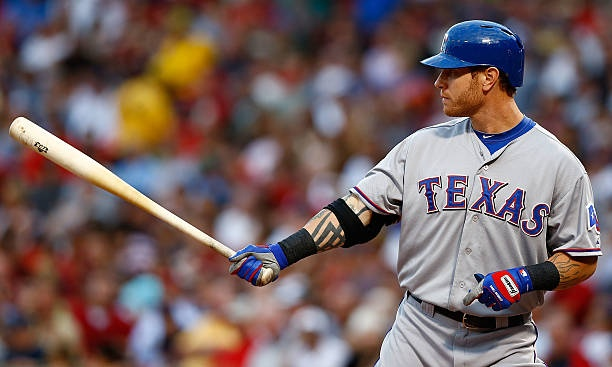bita: (9, 114, 277, 282)
